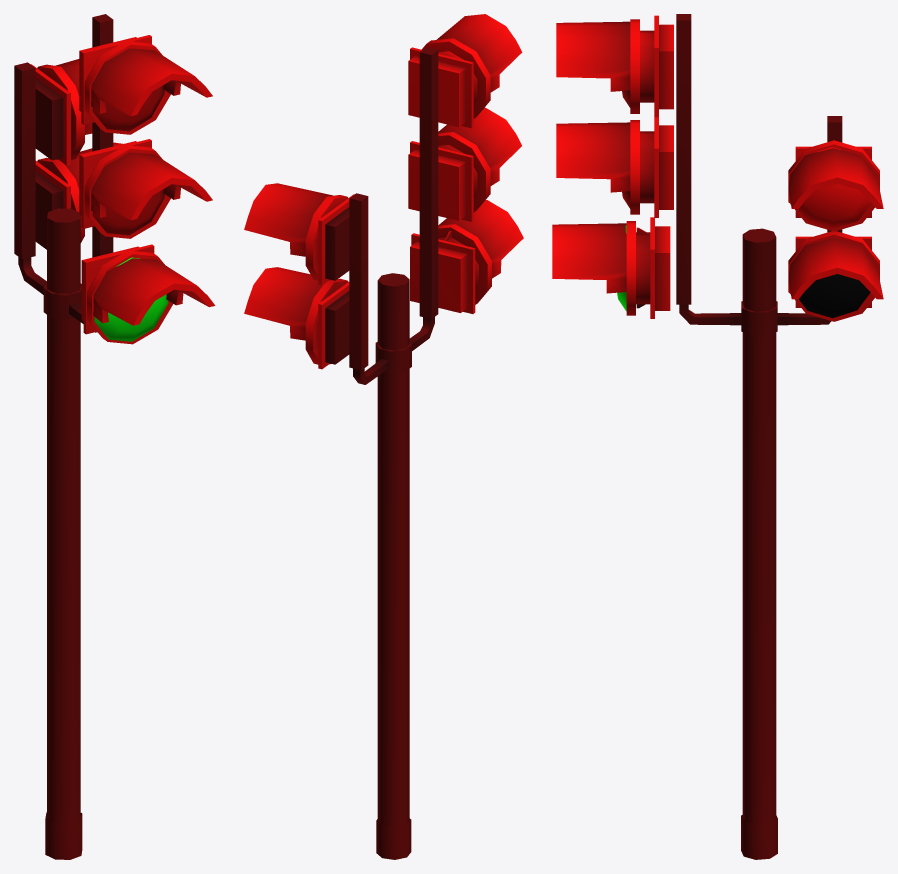
File: YellowTrafficLight001.glb
3 views of the same model, side by side, from view 1: azimuth 30°, elevation 25°; view 2: azimuth 150°, elevation 25°; view 3: azimuth 270°, elevation 25° (orthographic). The views are drawn at different scales.
Visible parts, largest first — view 1: YellowTrafficLight001; view 2: YellowTrafficLight001; view 3: YellowTrafficLight001.
Boxes of the visible parts, bbox=[...] form: YellowTrafficLight001: bbox=[14, 14, 215, 859]; YellowTrafficLight001: bbox=[244, 14, 523, 859]; YellowTrafficLight001: bbox=[552, 14, 883, 859].
Size of the model in its own units: 3.29 by 18.92 by 6.81.
